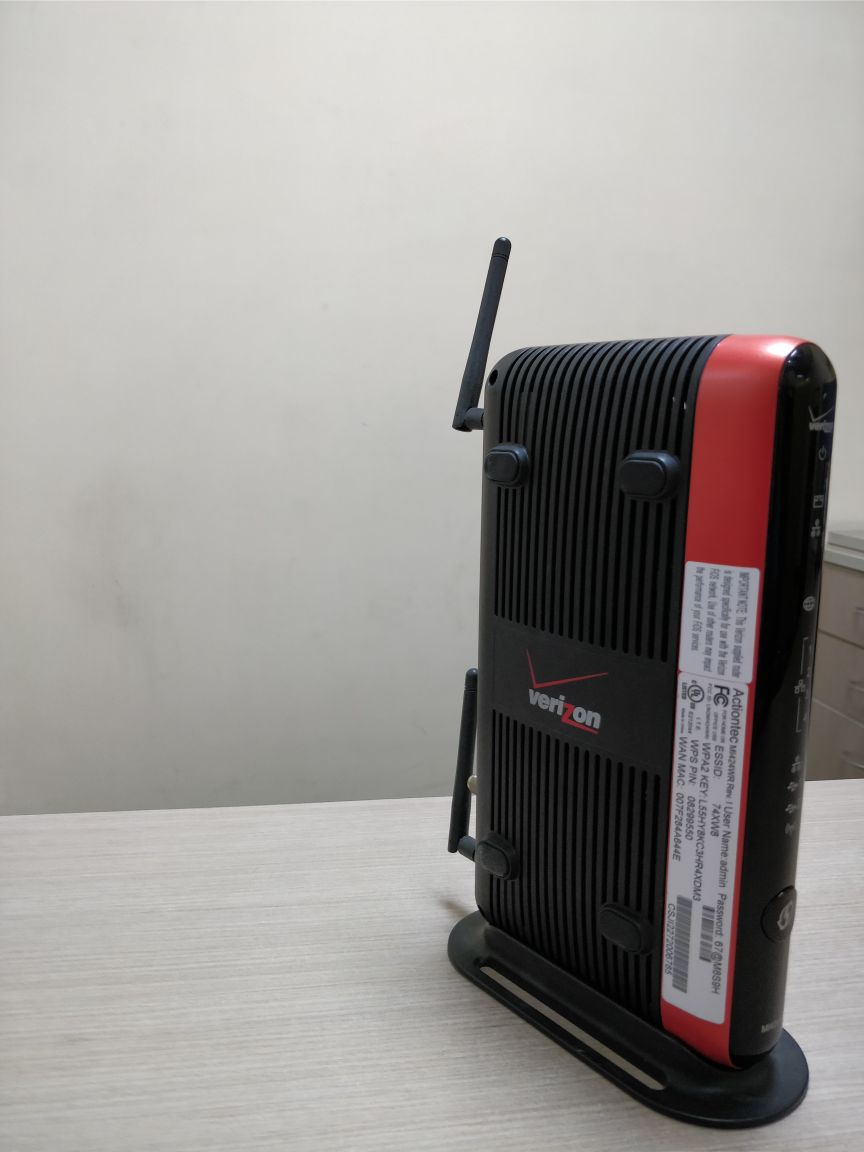Verizon Router: (409, 209, 864, 1141)
